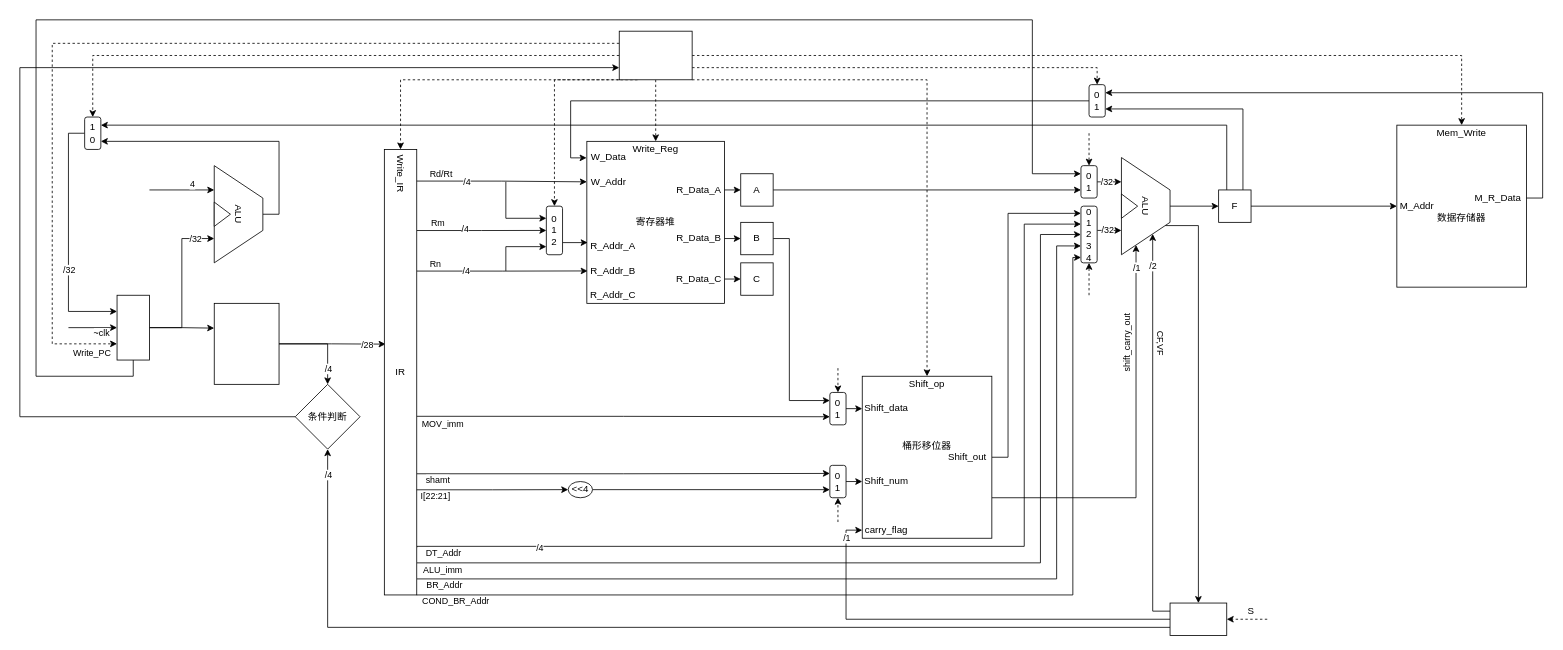
The diagram is 1563 pixels wide and 650 high, and some of its shapes have lost their labels. Here are the shapes that lost their labels. From the top down, the centre of each, then its label:
At point 655,55: "译码及 控制单元".
At point 132,327: "R15 (PC)".
At point 246,343: "Inst_addr 指令存储器".
At point 1198,618: "NZCV".
